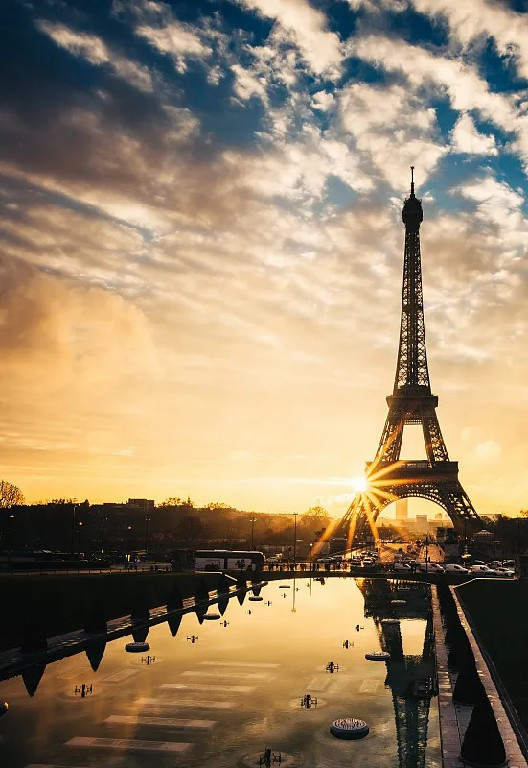Eiffel: (329, 168, 485, 557)
